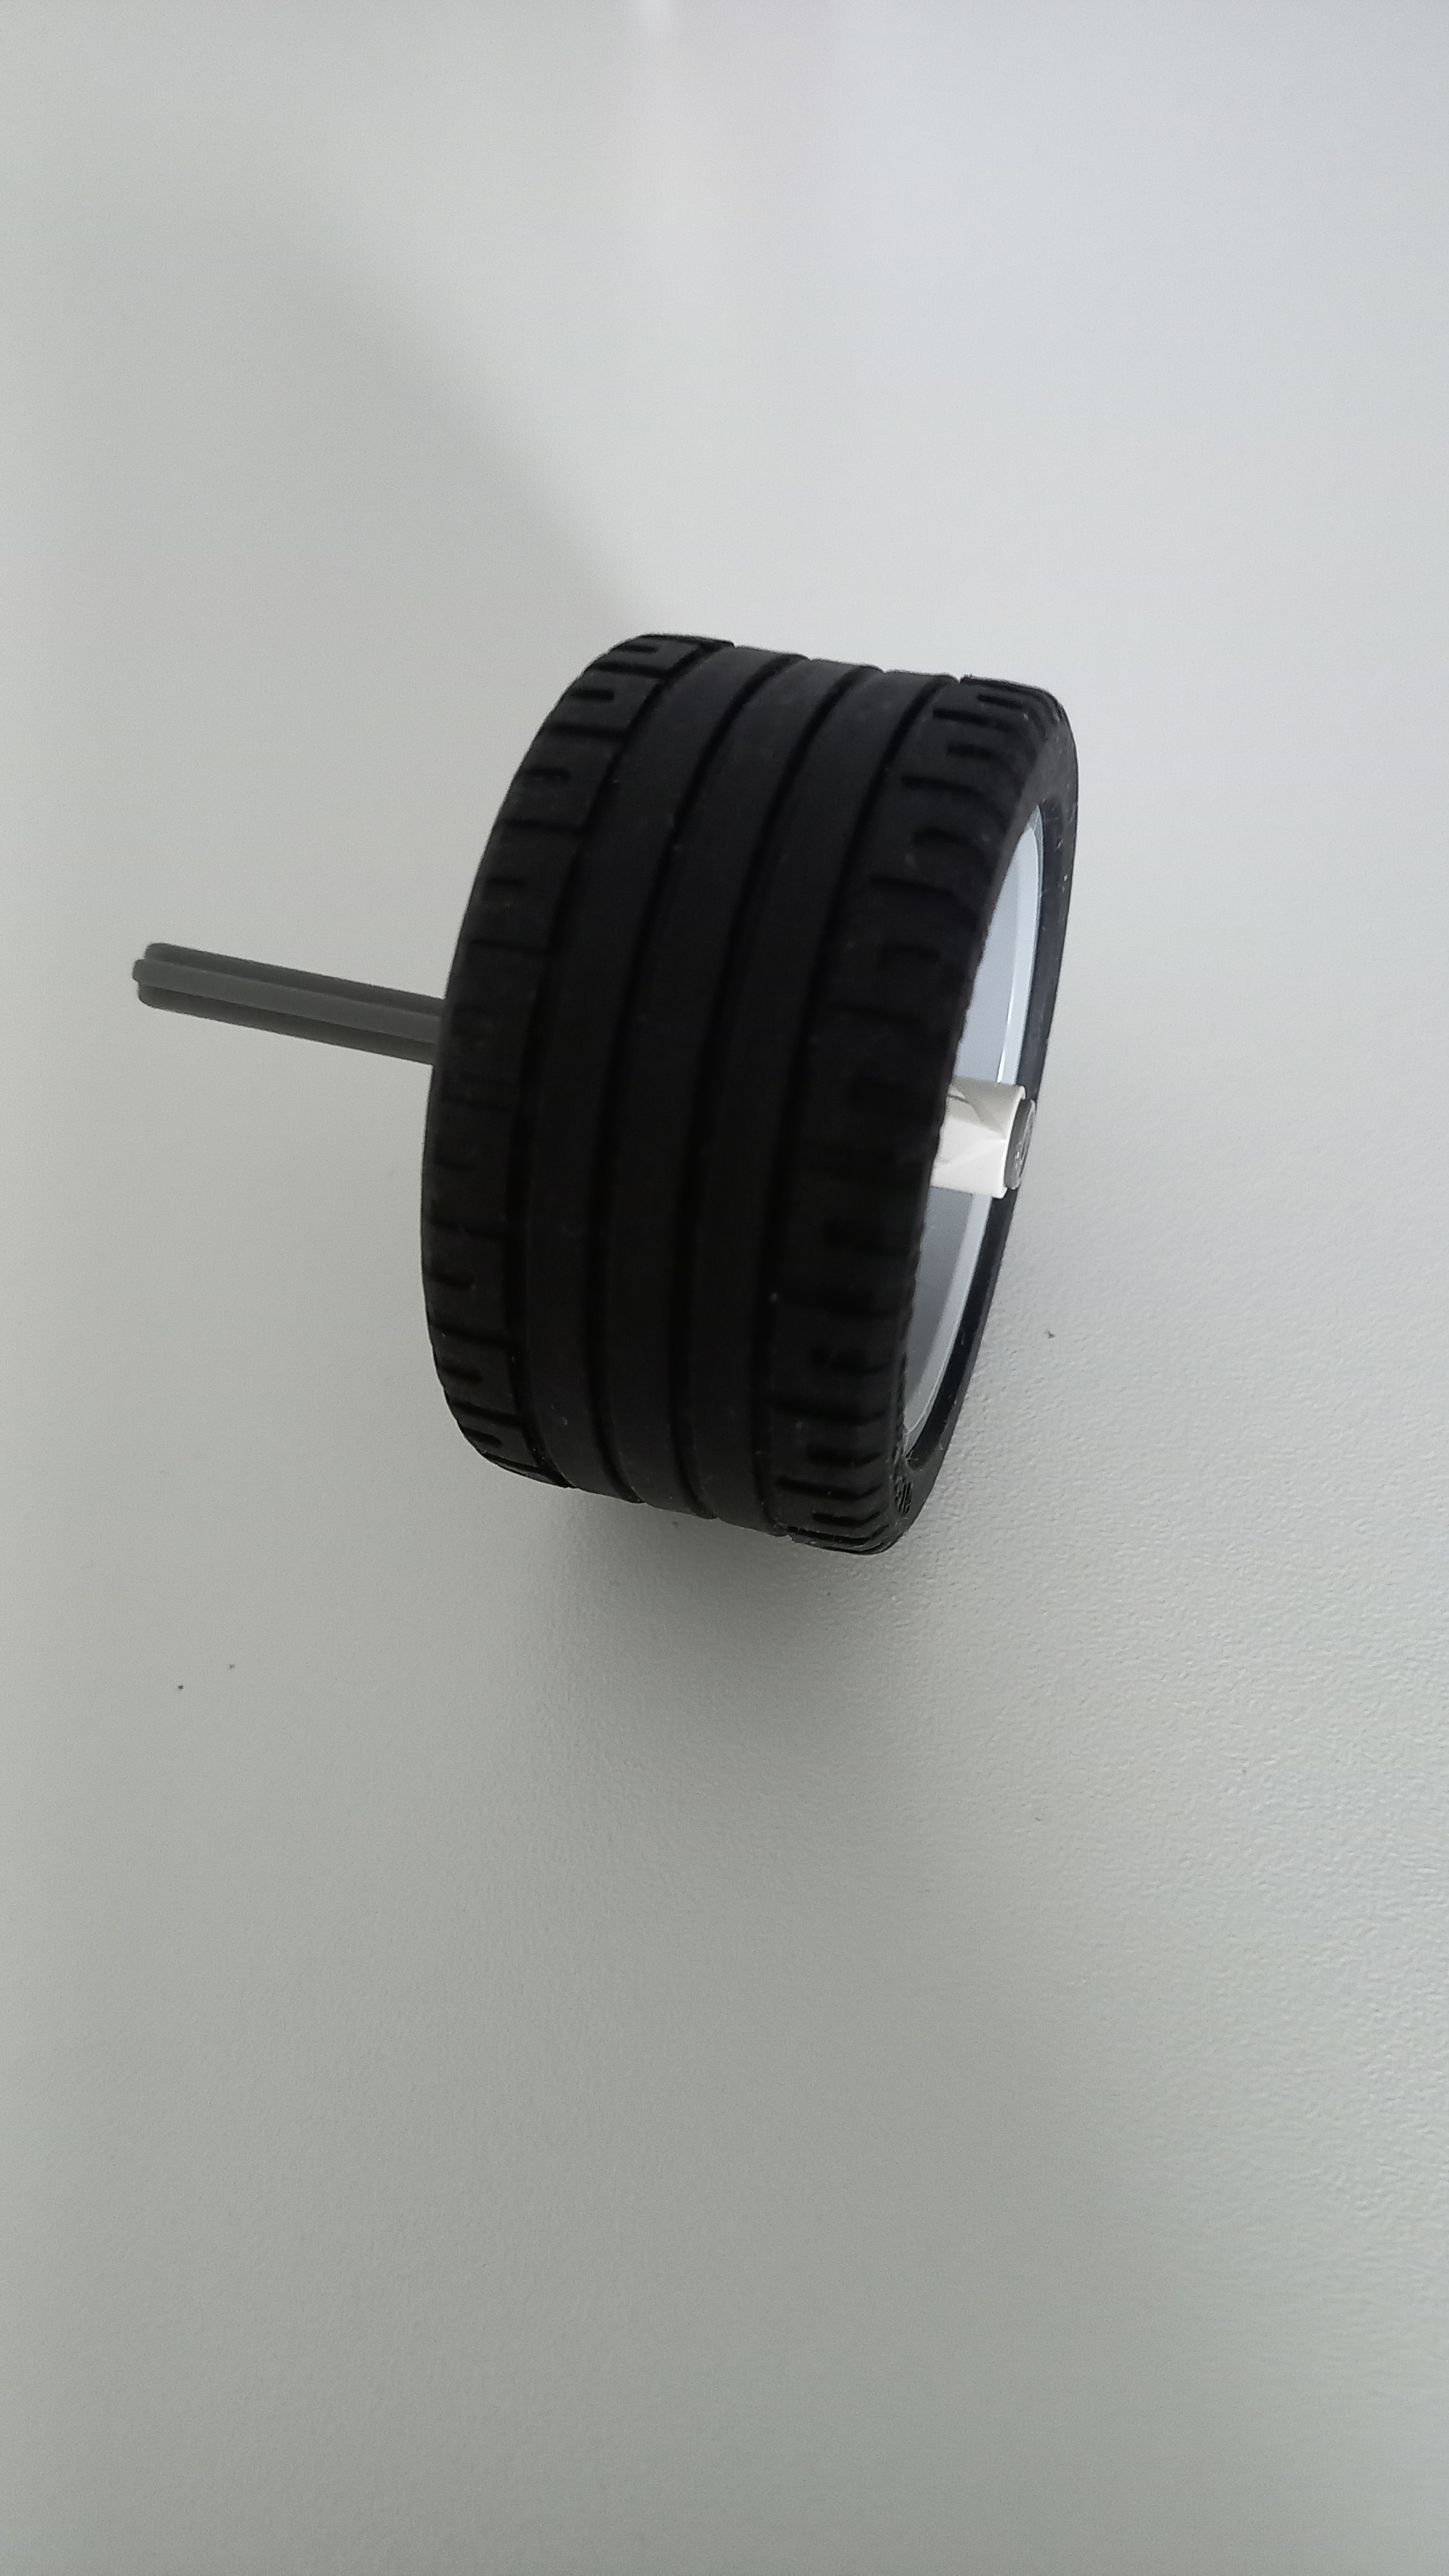Rad+Grau_lang+Kappe: (110, 616, 1115, 1617)
